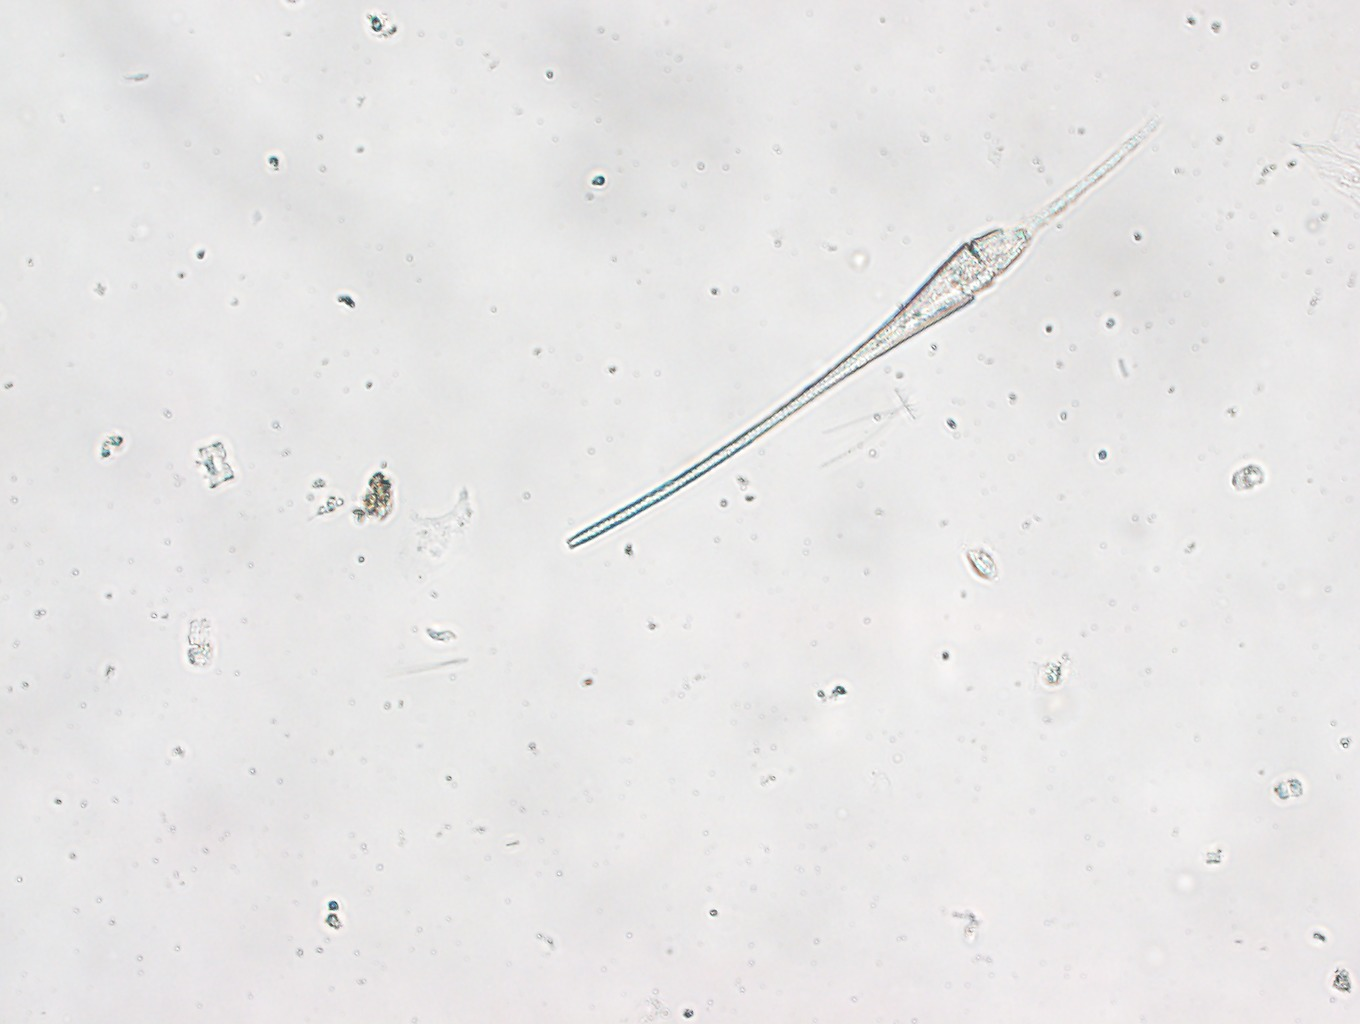ceratium fusus: (566, 123, 1168, 547)
